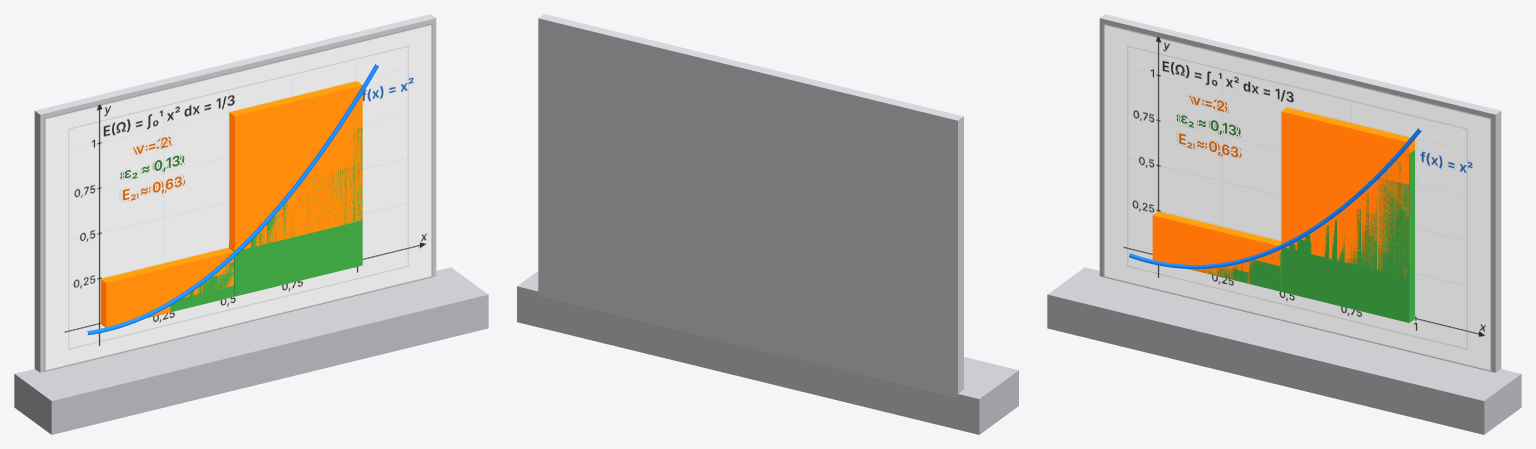
The model's file is olokliromata.glb.
3 views of the same model, side by side, from view 1: azimuth 30°, elevation 25°; view 2: azimuth 150°, elevation 25°; view 3: azimuth 330°, elevation 25° (orthographic). The views are drawn at different scales.
Visible parts, largest first — view 1: pinakas, vasi, diafores2, piso, kato2, diafores4, f, etiketa2, kato16, kato8, kato4, diafores8 (+1 smaller); view 2: piso, vasi; view 3: pinakas, vasi, diafores2, piso, kato8, diafores4, kato32, kato2, kato4, kato16, diafores8, f (+1 smaller).
Part boxes in pixels (x1,y1,x2,y2): pinakas: (44,23,432,371); vasi: (14,267,488,434); diafores2: (100,81,362,327); piso: (34,14,436,372); kato2: (235,220,362,296); diafores4: (100,82,362,326); f: (86,64,378,334); etiketa2: (121,136,183,201); kato16: (172,107,362,311); kato8: (146,127,362,318); kato4: (186,165,362,305); diafores8: (100,83,362,327); piso: (538,14,963,398); vasi: (517,271,1018,434); pinakas: (1103,23,1491,371); vasi: (1047,267,1521,434); diafores2: (1152,107,1409,283); piso: (1099,14,1501,372); kato8: (1188,178,1408,318); diafores4: (1152,124,1408,277); kato32: (1202,150,1414,322); kato2: (1281,248,1408,322); kato4: (1217,217,1408,321); kato16: (1192,162,1407,319); diafores8: (1166,131,1408,272); f: (1129,128,1421,268).
Size of the model in its own units: 0.2812 by 0.1797 by 0.0418.
Materials: 11 (6 with a texture image).
